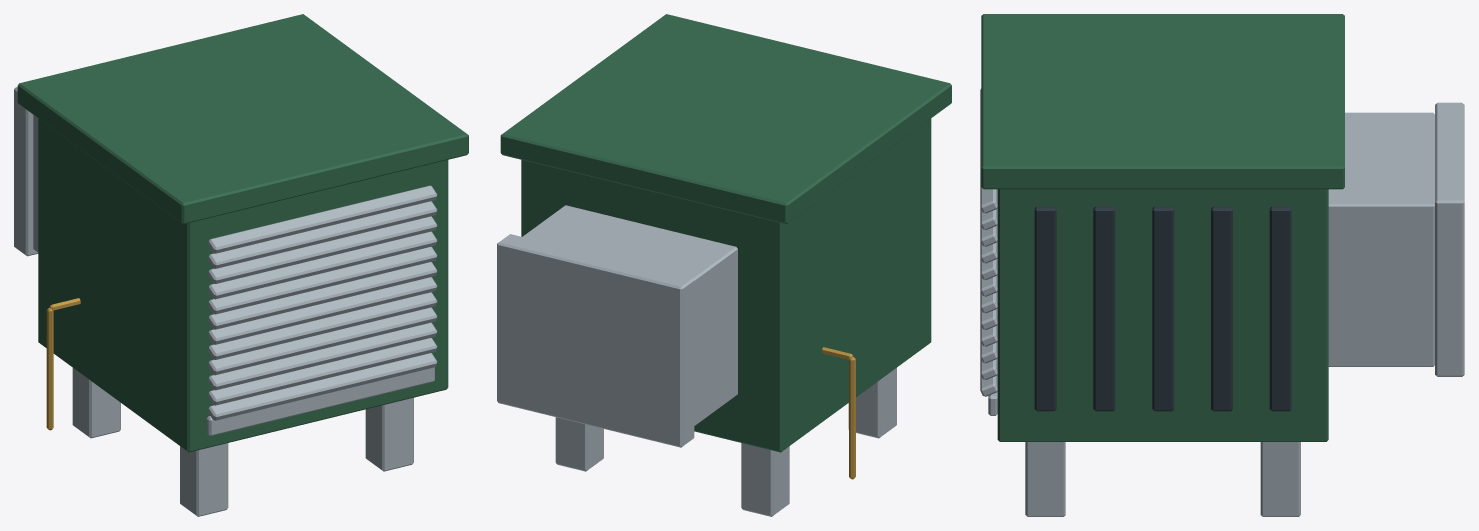
The model's file is b05_evaporative_cooler.glb.
3 renders of one model, left to right at view 1: azimuth 30°, elevation 25°; view 2: azimuth 150°, elevation 25°; view 3: azimuth 270°, elevation 25°, orthographic. The views are drawn at different scales.
Parts seen in each view (by area): view 1: b05_evaporative_cooler; view 2: b05_evaporative_cooler; view 3: b05_evaporative_cooler.
Boxes of the visible parts, x1=… form: b05_evaporative_cooler: x1=14, y1=14, x2=468, y2=516; b05_evaporative_cooler: x1=497, y1=14, x2=951, y2=516; b05_evaporative_cooler: x1=980, y1=14, x2=1464, y2=516.
Bounding box in the file's own units: 1.05 × 1.11 × 1.32.
